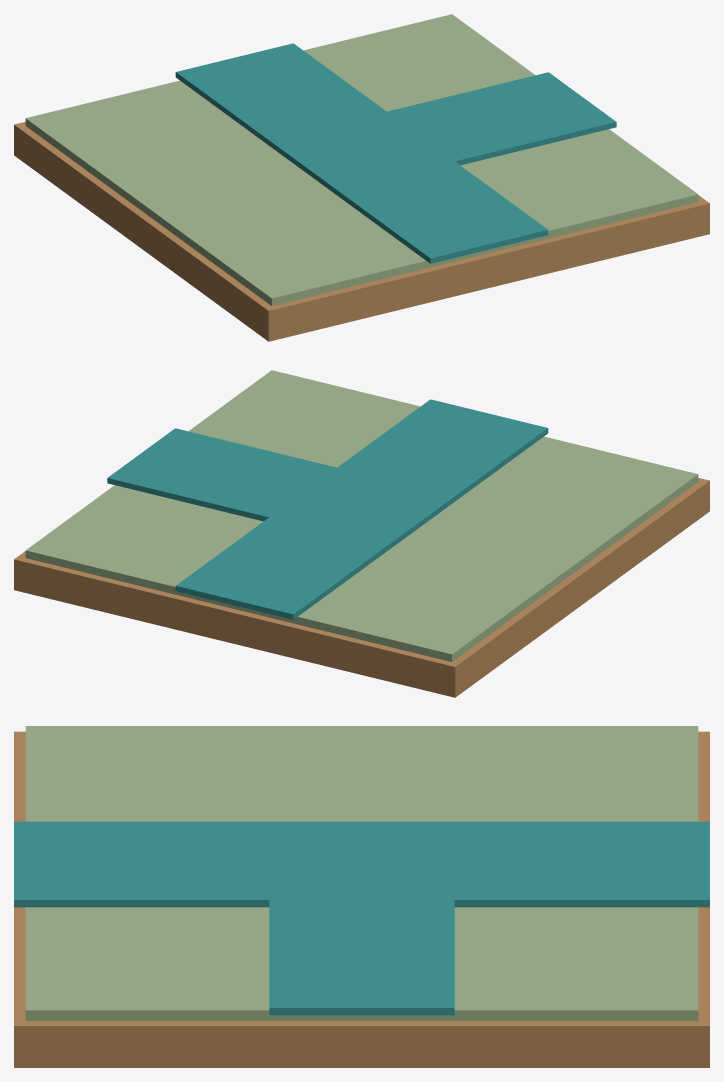
The model's file is tabletop-game-components-canal-junction-6c5487bb__20863.glb.
The picture shows the model from 3 angles, top to bottom: view 1: azimuth 30°, elevation 25°; view 2: azimuth 150°, elevation 25°; view 3: azimuth 270°, elevation 25°; orthographic projection. The views are drawn at different scales.
Parts seen in each view (by area): view 1: canal-junction; view 2: canal-junction; view 3: canal-junction.
Part boxes in pixels (<box>): canal-junction: <box>14,14,709,341</box>; canal-junction: <box>14,370,709,697</box>; canal-junction: <box>14,726,709,1067</box>.
Bounding box in the file's own units: 0.06 × 0.0057 × 0.06.
